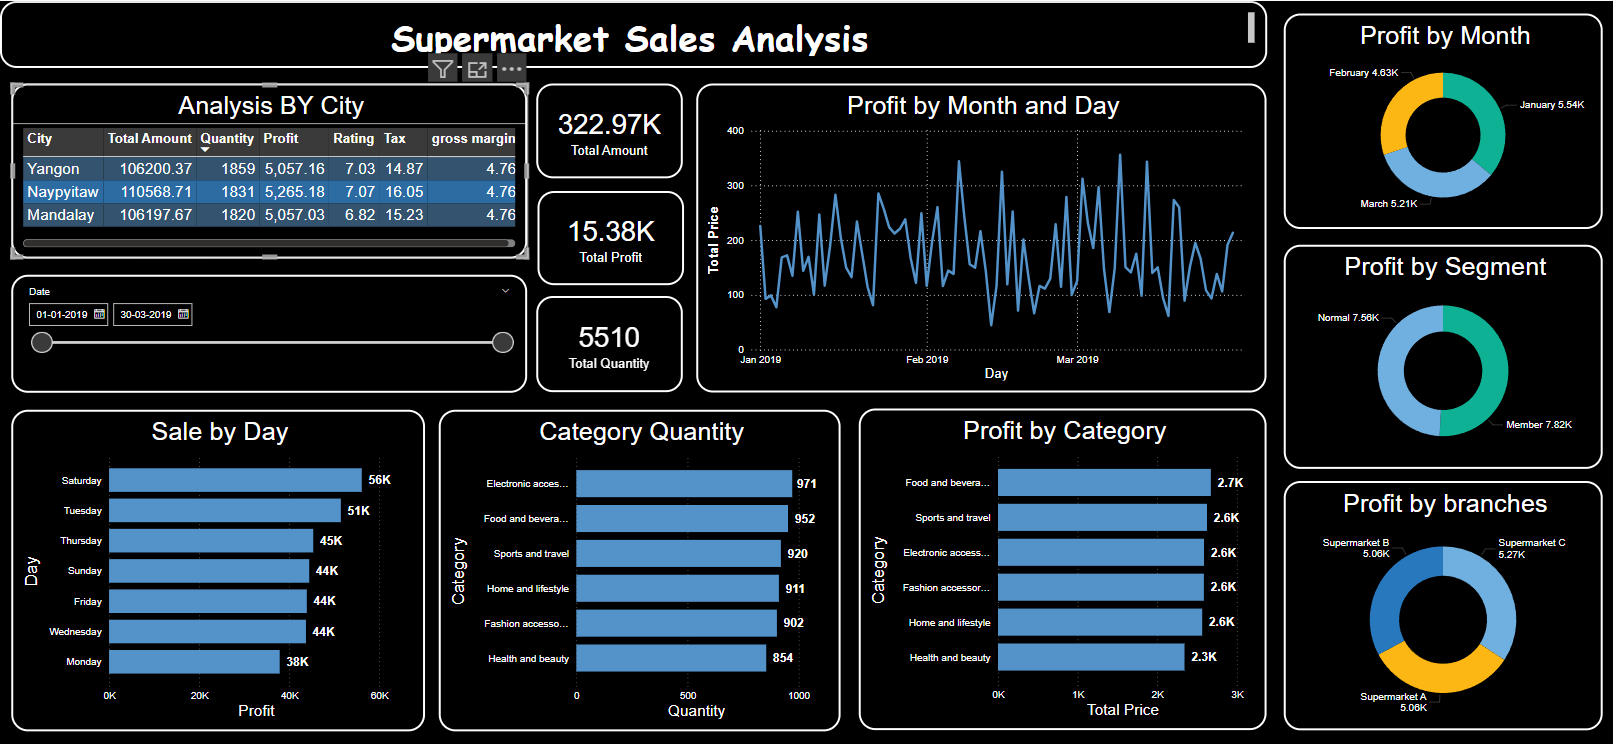

This screenshot's page, from the dashboard's own definition file:
{"tool":"powerbi","page":{"name":"Page 1","canvas":[1950,900],"ordinal":0},"visuals":[{"type":"textbox","box":[0,0,1528.5,81],"z":0},{"type":"donutChart","title":"Profit by branches","fields":{"Category":["supermarket_sales.Branch"],"Y":["Sum(supermarket_sales.gross income)"]},"box":[1548.4,579.3,385.2,301.1],"z":1000},{"type":"donutChart","title":"Profit by Segment","fields":{"Category":["supermarket_sales.Customer type"],"Y":["Sum(supermarket_sales.gross income)"]},"box":[1548.4,293.5,385.2,270.6],"z":2000},{"type":"donutChart","title":"Profit by Month","fields":{"Category":["supermarket_sales.Month Name"],"Y":["Sum(supermarket_sales.gross income)"]},"box":[1548.4,15.3,385.2,259.9],"z":3000},{"type":"barChart","title":"Profit by Category","fields":{"Category":["supermarket_sales.Product line"],"Y":["Sum(supermarket_sales.gross income)"]},"box":[1036.4,492.2,492.2,388.2],"z":4000},{"type":"lineChart","title":"Profit by Month and Day","fields":{"Category":["supermarket_sales.Date.Variation.Date Hierarchy.Year","supermarket_sales.Date.Variation.Date Hierarchy.Quarter","supermarket_sales.Date.Variation.Date Hierarchy.Month","supermarket_sales.Date.Variation.Date Hierarchy.Day"],"Y":["Sum(supermarket_sales.gross income)"]},"box":[840.7,99.4,687.8,373],"z":5000},{"type":"tableEx","title":"Analysis BY City","fields":{"Values":["supermarket_sales.City","Sum(supermarket_sales.Total)","Sum(supermarket_sales.Quantity)","Sum(supermarket_sales.gross income)","Avg(supermarket_sales.Rating)","Avg(supermarket_sales.Tax 5%)","Avg(supermarket_sales.gross margin percentage)"]},"box":[14.1,100.1,622.5,211.1],"z":6000},{"type":"barChart","title":"Category Quantity","fields":{"Category":["supermarket_sales.Product line"],"Y":["Sum(supermarket_sales.Quantity)"]},"box":[528.6,492.7,484.8,387.9],"z":7000},{"type":"slicer","title":"Date","fields":{"Values":["supermarket_sales.Date"]},"box":[14.1,330,622.5,142.3],"z":8000},{"type":"card","fields":{"Values":["Sum(supermarket_sales.Total)"]},"box":[647.5,100.1,176.7,114.2],"z":9000},{"type":"card","fields":{"Values":["Sum(supermarket_sales.gross income)"]},"box":[648.3,228.5,177.1,113.4],"z":10000},{"type":"card","fields":{"Values":["Sum(supermarket_sales.Quantity)"]},"box":[647.5,356.6,176.7,115.7],"z":11000},{"type":"barChart","title":"Sale by Day","fields":{"Category":["supermarket_sales.Day Name"],"Y":["Sum(supermarket_sales.Total)"]},"box":[14.1,492.7,498.9,387.9],"z":12000}]}

Visuals, with their boxes in screenshot pixels (x1, y1, x2, y2), scaled from the page's 1950x900 canvas onto the 1613x744 screenshot:
textbox: bbox(0, 0, 1264, 67)
"Profit by branches" donutChart: bbox(1281, 479, 1599, 728)
"Profit by Segment" donutChart: bbox(1281, 243, 1599, 466)
"Profit by Month" donutChart: bbox(1281, 13, 1599, 227)
"Profit by Category" barChart: bbox(857, 407, 1264, 728)
"Profit by Month and Day" lineChart: bbox(695, 82, 1264, 391)
"Analysis BY City" tableEx: bbox(12, 83, 527, 257)
"Category Quantity" barChart: bbox(437, 407, 838, 728)
"Date" slicer: bbox(12, 273, 527, 390)
card - Sum(supermarket_sales.Total): bbox(536, 83, 682, 177)
card - Sum(supermarket_sales.gross income): bbox(536, 189, 683, 283)
card - Sum(supermarket_sales.Quantity): bbox(536, 295, 682, 390)
"Sale by Day" barChart: bbox(12, 407, 424, 728)
